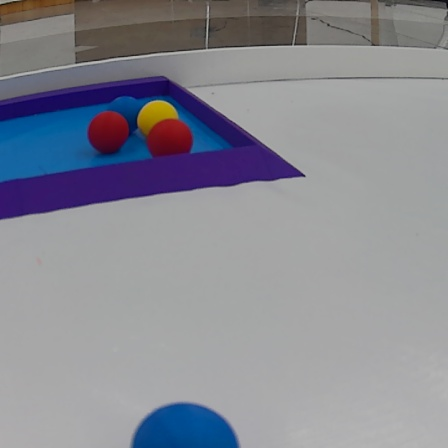blue: (106, 96, 147, 135)
blue_aim: (1, 73, 307, 219)
red: (86, 111, 128, 156), (149, 119, 191, 161)
yellow: (135, 99, 180, 143)
